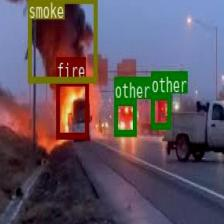fire: (56, 79, 88, 138)
smoke: (28, 0, 96, 81)
